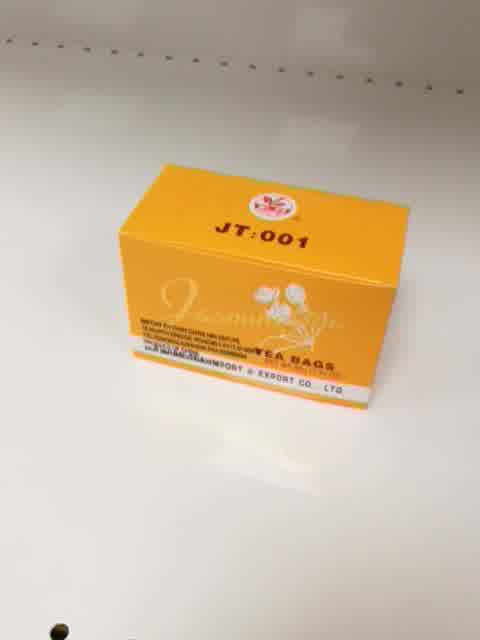jasminetea: (114, 164, 410, 415)
